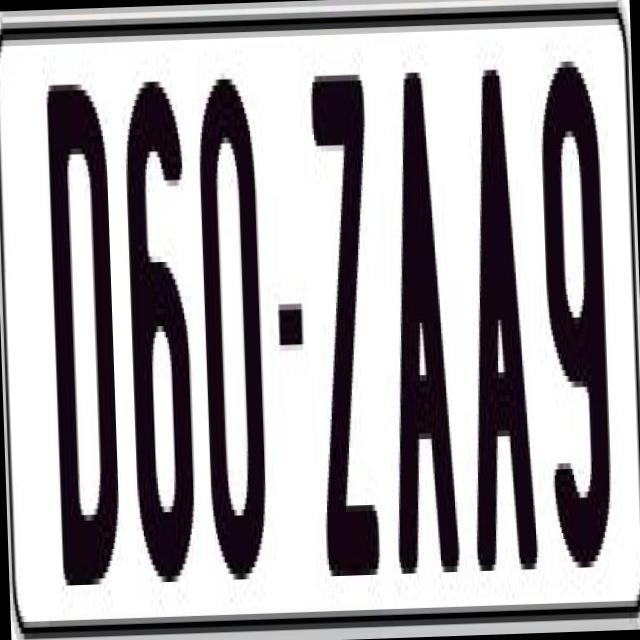0: (197, 71, 270, 604)
6: (118, 69, 192, 600)
9: (535, 60, 618, 603)
A: (454, 69, 536, 576), (378, 60, 457, 568)
D: (40, 78, 124, 586)
Z: (308, 62, 385, 576)
